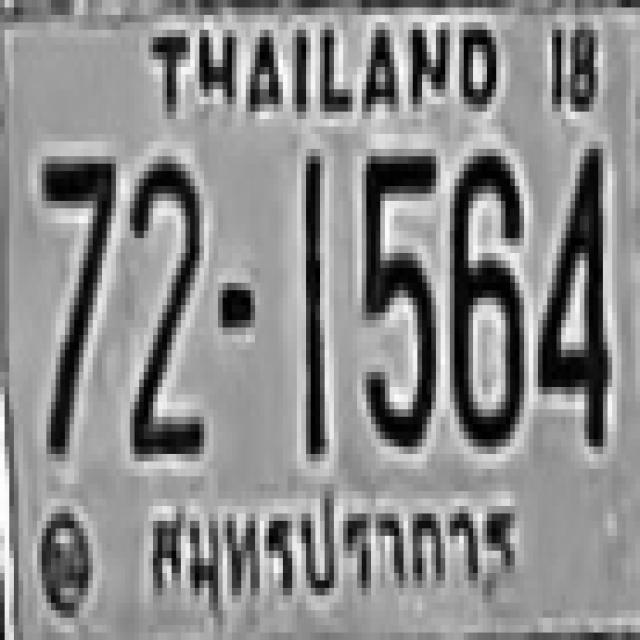1: (302, 153, 324, 450)
2: (128, 149, 202, 454)
4: (534, 141, 608, 439)
5: (359, 149, 434, 446)
6: (446, 145, 520, 443)
7: (37, 149, 111, 446), (37, 149, 111, 357)
SamutPrakan: (142, 486, 532, 604)
